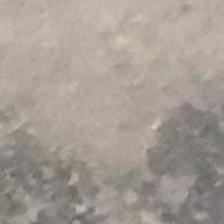Non_Crack: (19, 29, 210, 206)
